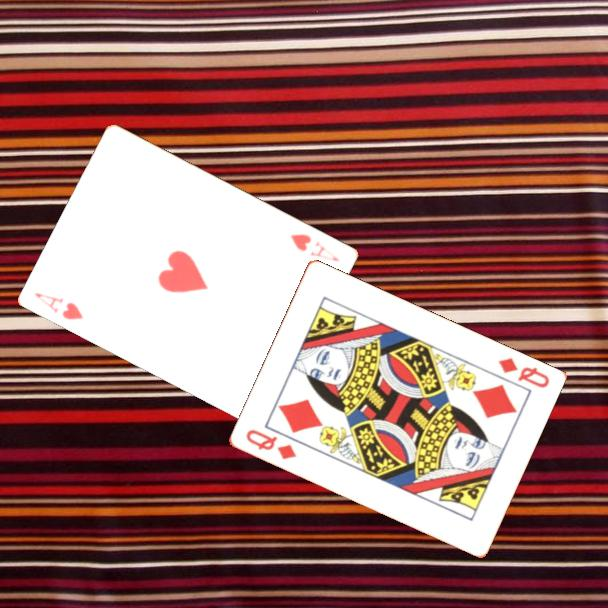d12: (494, 354, 552, 391), (242, 426, 299, 463)
h01: (287, 230, 343, 265), (31, 289, 87, 323)
